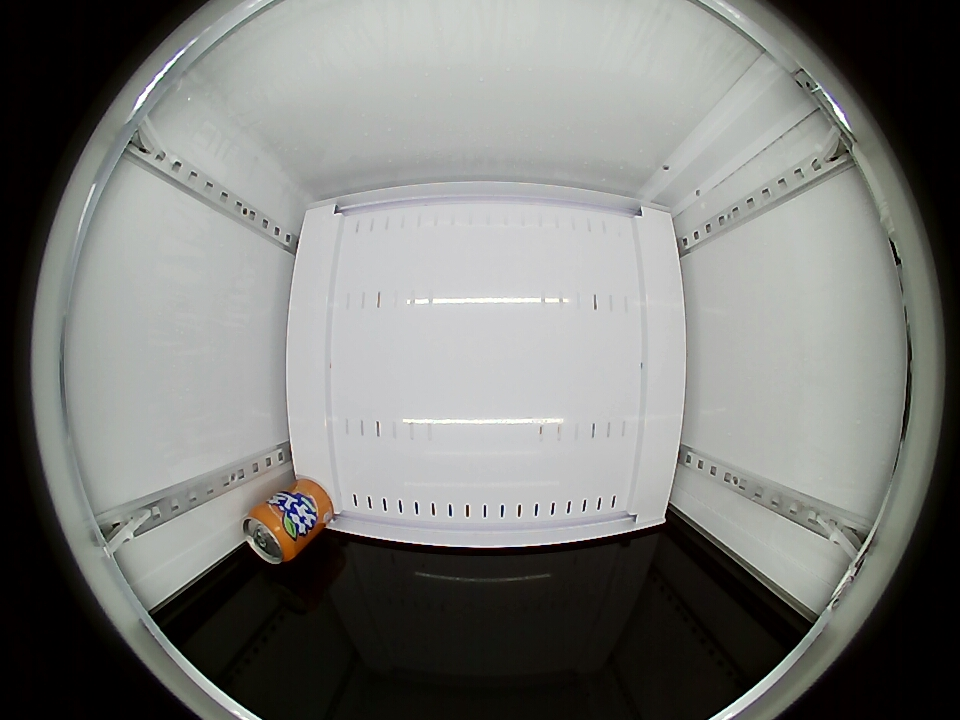fenda: (241, 504, 295, 565)
